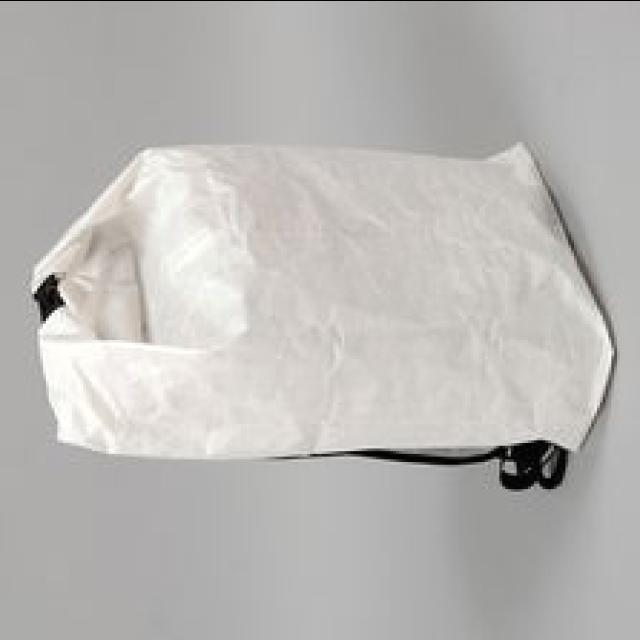backpack: (27, 143, 615, 495)
